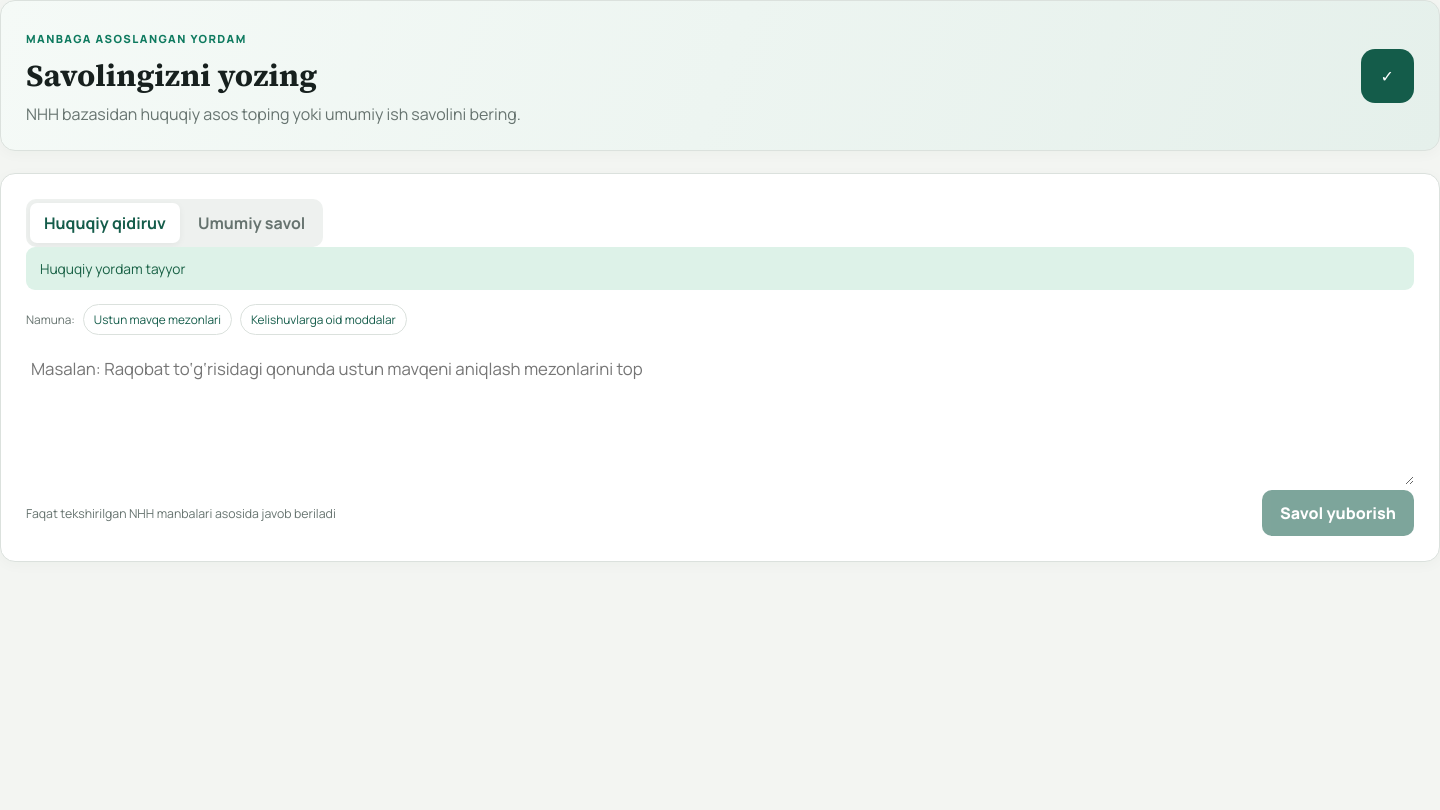
Scenario: Chat reliability states › keeps provider failure 429 visible, ends loading and offers retry
Expected: the text "Huquqiy yordam tayyor" is shown, [26,247,1414,290]
Type "19-modda nimani belgilaydi?" into the text box. click: {"x": 720, "y": 410}
box: [26,335,1414,485]
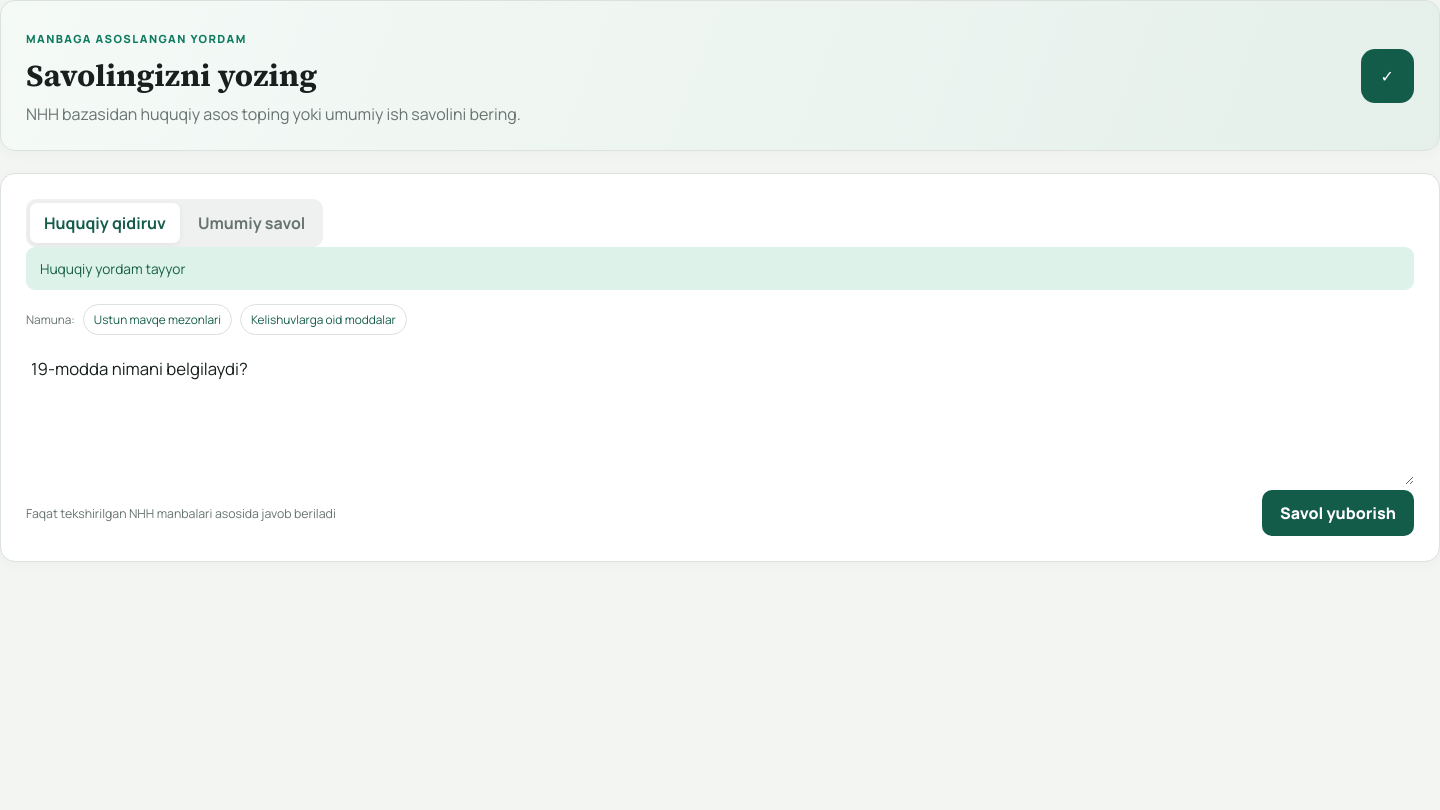
Click the button "Savol yuborish". click: {"x": 1338, "y": 513}
box: [1262,490,1414,536]
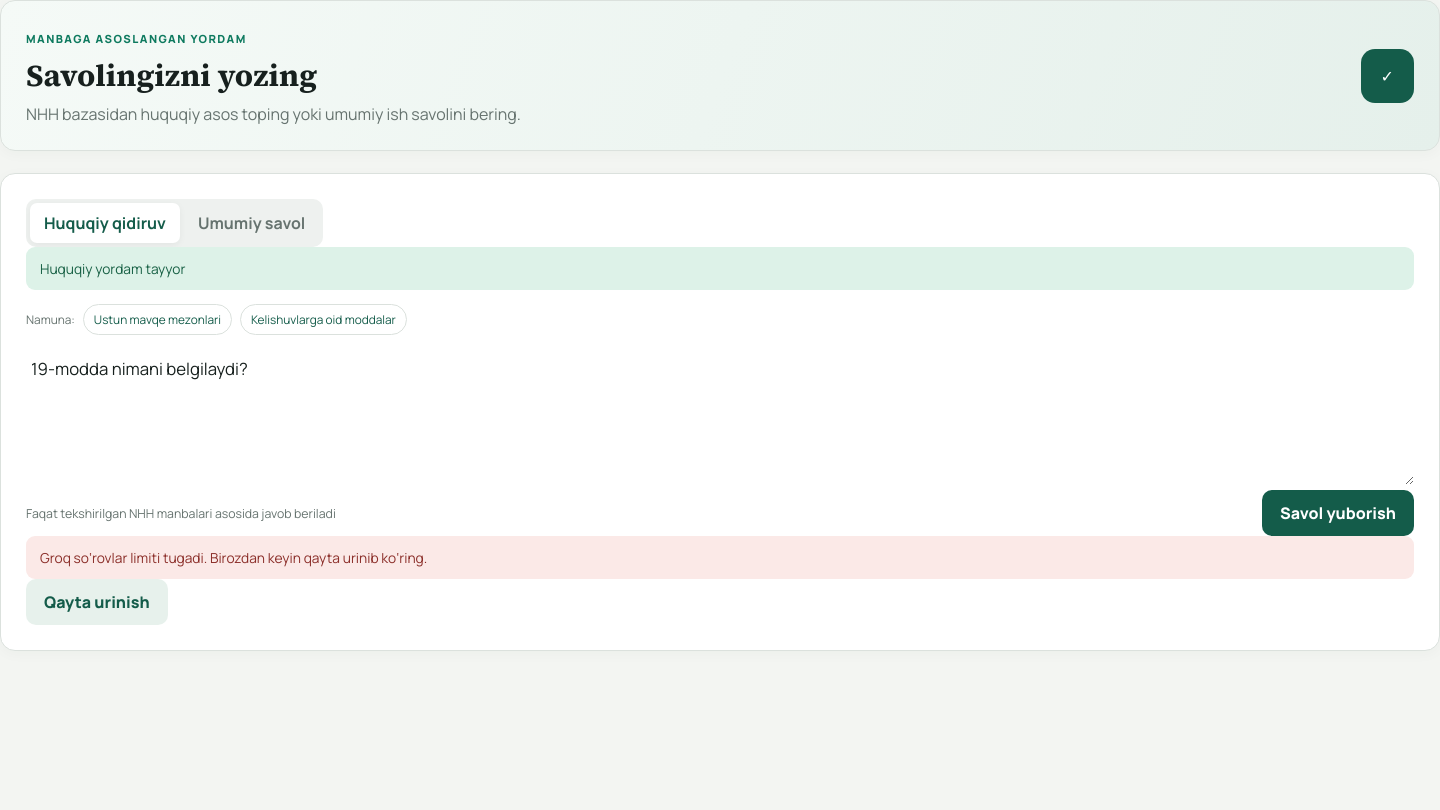
Result: the button "Savol yuborish" is enabled at [1262,490,1414,536]
Result: the message shows "Groq so‘rovlar limiti tugadi" at [40,548,427,567]
Result: the button "Qayta urinish" is enabled at [26,579,168,625]
